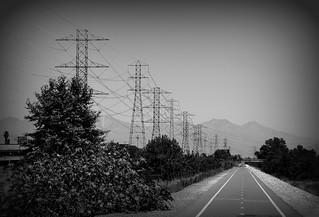power_tower: (53, 27, 113, 119), (119, 56, 149, 147), (145, 82, 170, 143), (180, 108, 194, 155), (194, 120, 209, 157)
